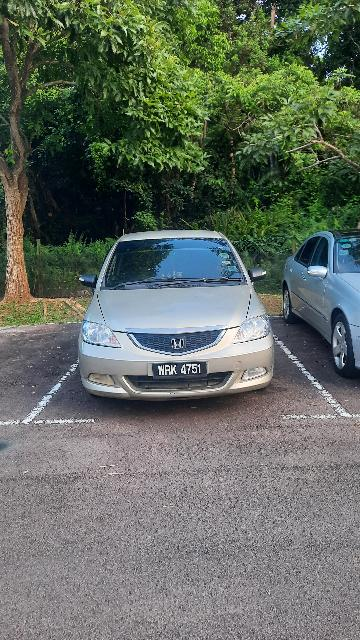License_Plate: (150, 361, 213, 383)
car: (72, 225, 283, 408)
